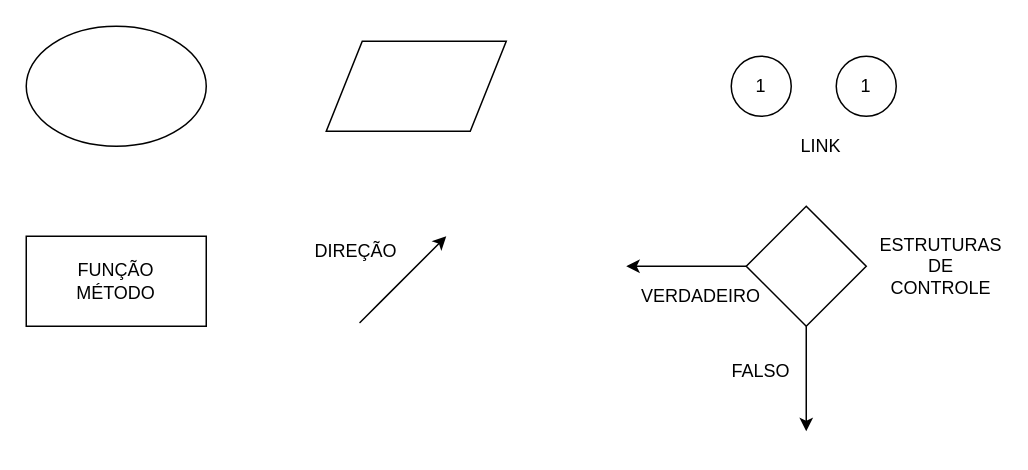
The diagram is 1028 pixels wide and 470 high, and some of its shapes have lost their labels. The shapes that lost their labels are listed below. From the top down, each one's centre as x and y in pixels, then its label:
At [115,85]: "INICIO".
At [415,85]: "ENTRADA SAIDA".
